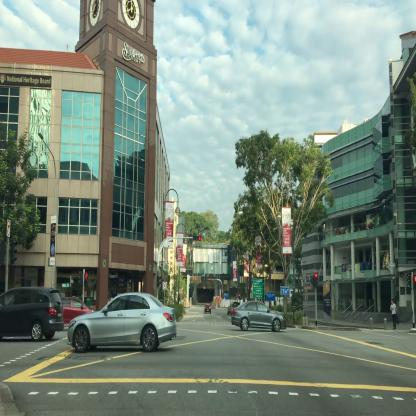red_traffic_light: (314, 272, 318, 287), (192, 236, 200, 240)
